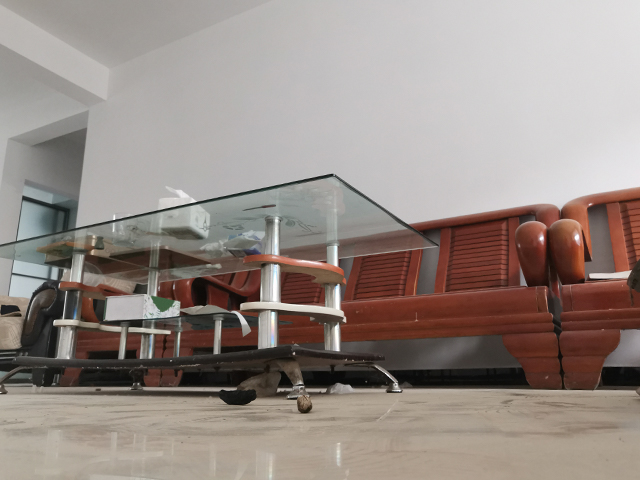feces: (295, 392, 314, 415)
sofa: (352, 204, 555, 392), (560, 187, 640, 392)
sofafeces: (215, 388, 258, 407)
table: (1, 171, 441, 401)
